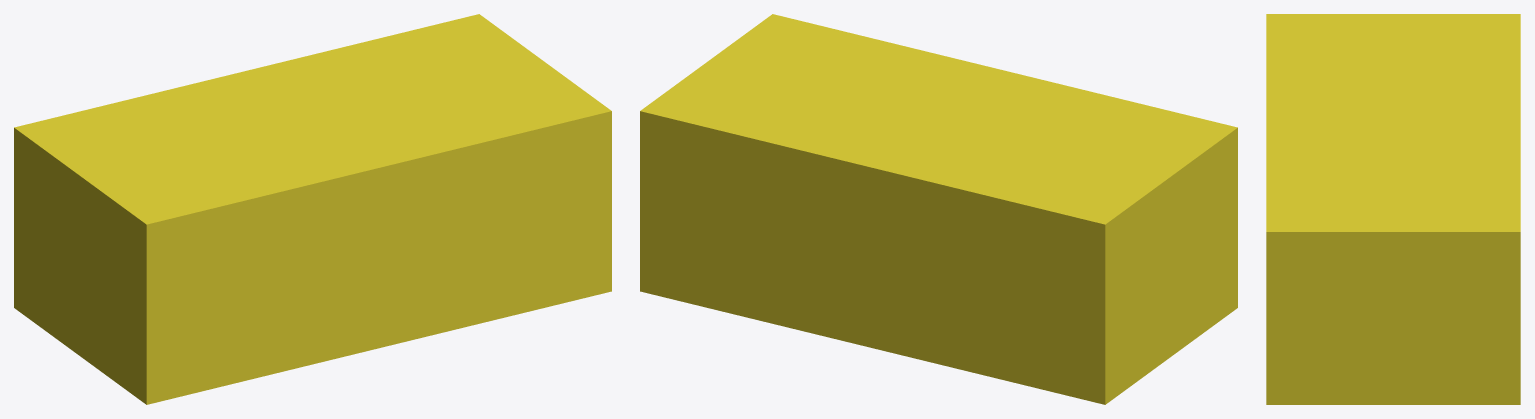
File: StandardBox.fbx
3 views of the same model, side by side, from view 1: azimuth 30°, elevation 25°; view 2: azimuth 150°, elevation 25°; view 3: azimuth 270°, elevation 25° (orthographic). The views are drawn at different scales.
Visible parts, largest first — view 1: Cube.005, Cube.004, Cube.002, Cube.001, Cube.003; view 2: Cube.003, Cube.004, Cube.002, Cube.001, Cube.005; view 3: Cube.004, Cube.001, Cube.003, Cube.005, Cube.002.
Boxes of the visible parts, left/top/right/bottom form: Cube.005: left=148, top=118, right=608, bottom=403; Cube.004: left=23, top=14, right=608, bottom=228; Cube.002: left=14, top=127, right=152, bottom=404; Cube.001: left=477, top=14, right=611, bottom=292; Cube.003: left=17, top=53, right=323, bottom=129; Cube.003: left=643, top=112, right=1102, bottom=403; Cube.004: left=643, top=14, right=1228, bottom=229; Cube.002: left=1099, top=126, right=1237, bottom=404; Cube.001: left=640, top=14, right=774, bottom=291; Cube.005: left=955, top=60, right=1232, bottom=128; Cube.004: left=1266, top=16, right=1520, bottom=230; Cube.001: left=1266, top=230, right=1520, bottom=404; Cube.003: left=1514, top=15, right=1520, bottom=154; Cube.005: left=1266, top=15, right=1272, bottom=146; Cube.002: left=1266, top=14, right=1520, bottom=16.
Size of the model in its own units: 81 by 30 by 40.
